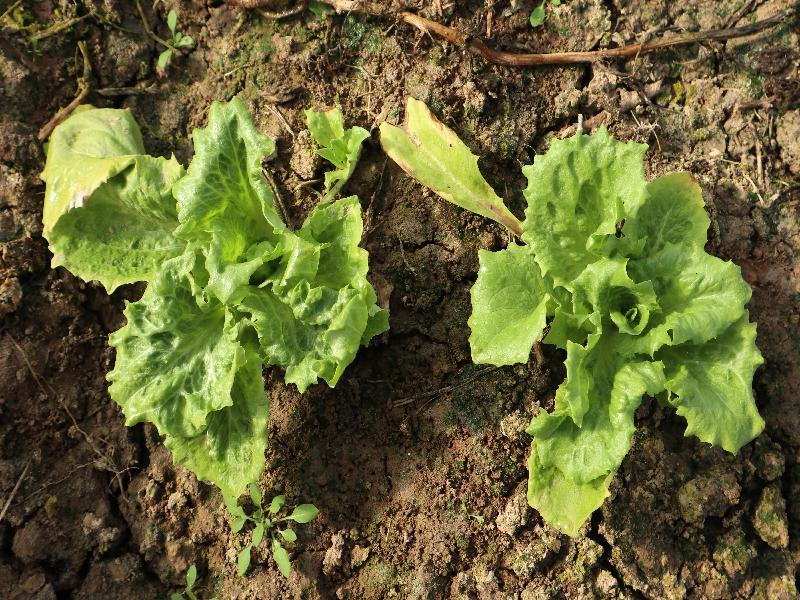lettuce: (37, 99, 386, 494), (467, 123, 767, 537)
